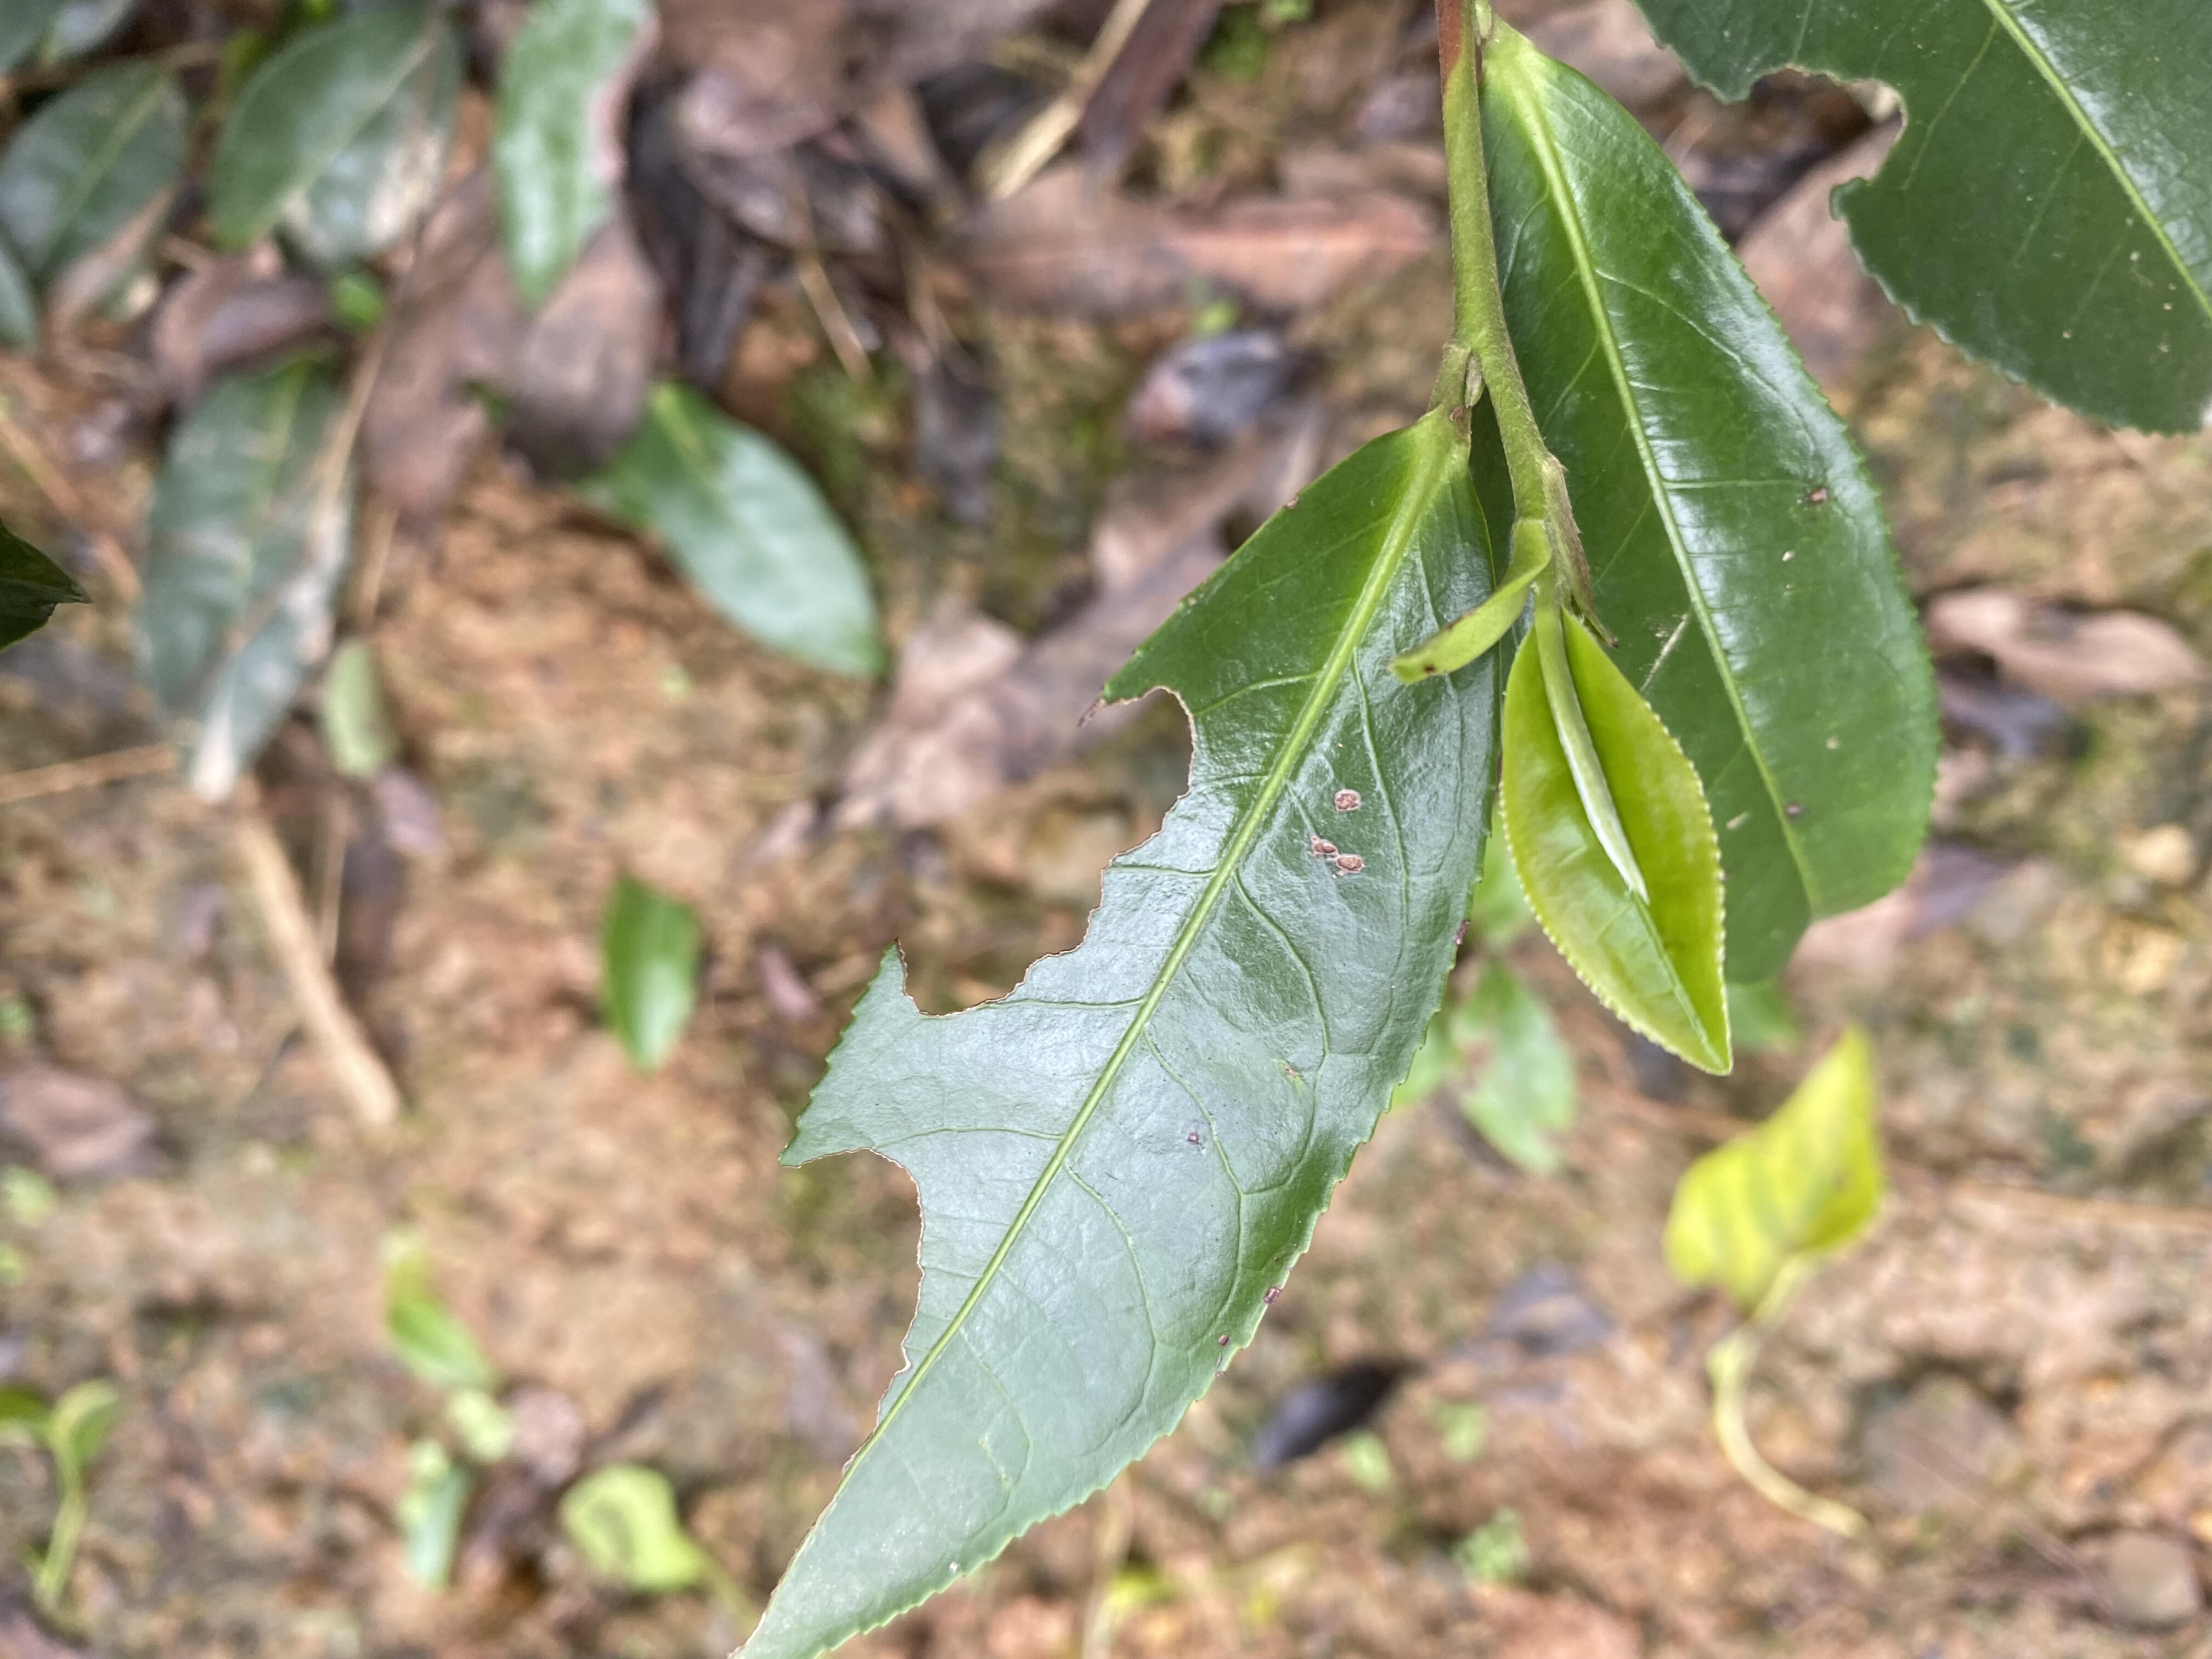chihuo_high: (716, 403, 1503, 1659)
chihuo_low: (1639, 2, 2212, 439)
healthy: (1498, 610, 1737, 1079)
tanju_low: (1477, 40, 1942, 983)
